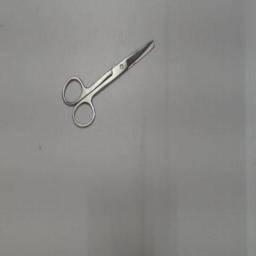Dressing Scissors: (54, 34, 162, 134)
